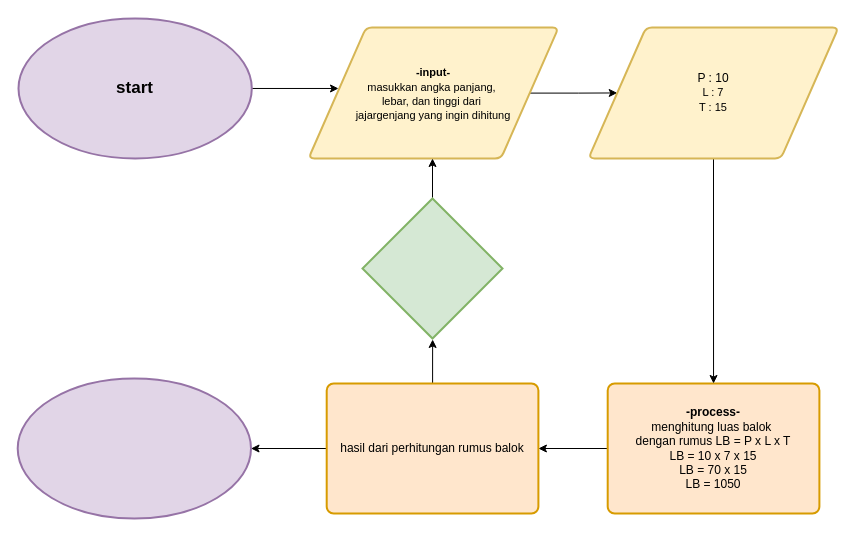
Some shapes in this 857 by 536 pixel diagram are drawn without their labels. The shapes that lost their labels are listed below. From the top down, each one's box as (x1, y1, x2, y2) in pixels, then its label:
(361, 197, 503, 339): masih ada yang akan dihitung
(16, 377, 252, 519): end
